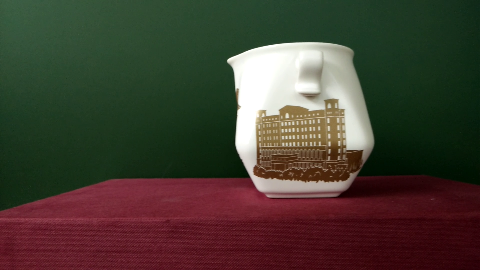law: (258, 119, 348, 176)
